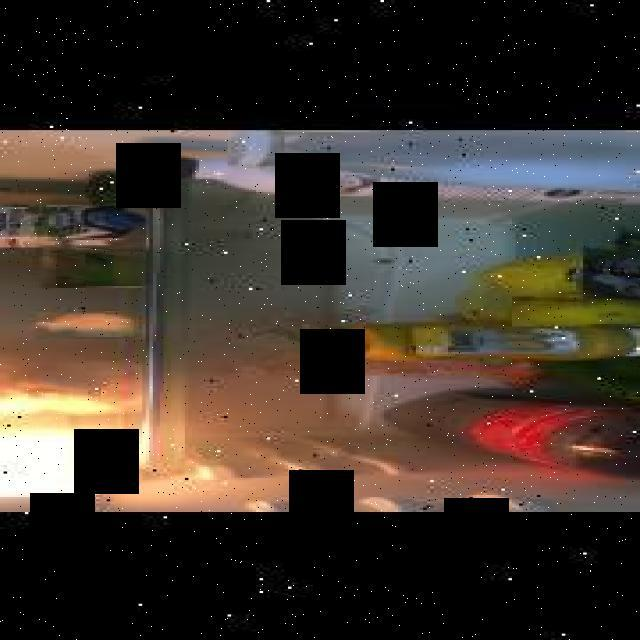garlic: (5, 371, 101, 401), (37, 309, 137, 337)
guacamole: (42, 245, 146, 286)
heavy_cream: (0, 205, 146, 245)
lemon: (512, 294, 640, 324)
marmelade: (583, 245, 640, 301)
